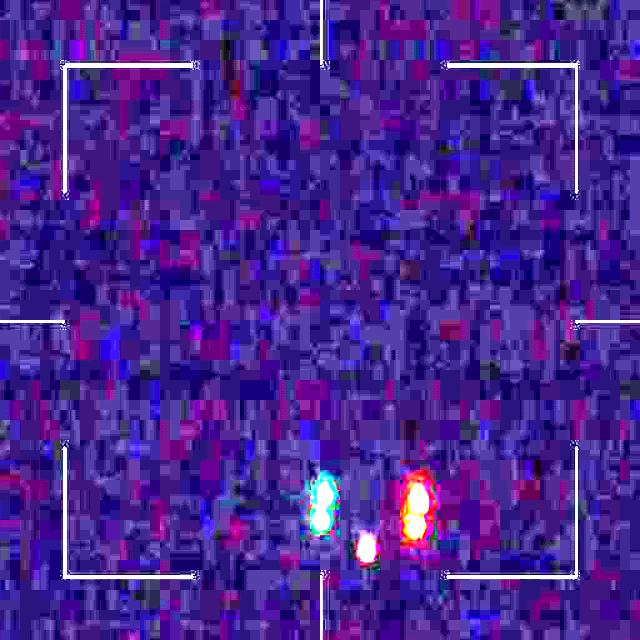bird: (314, 475, 430, 565)
